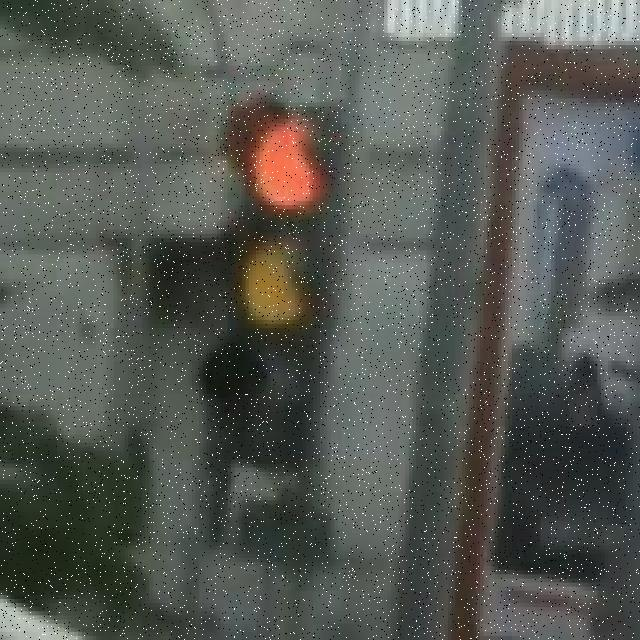Zolte swiatlo: (203, 94, 353, 472)
